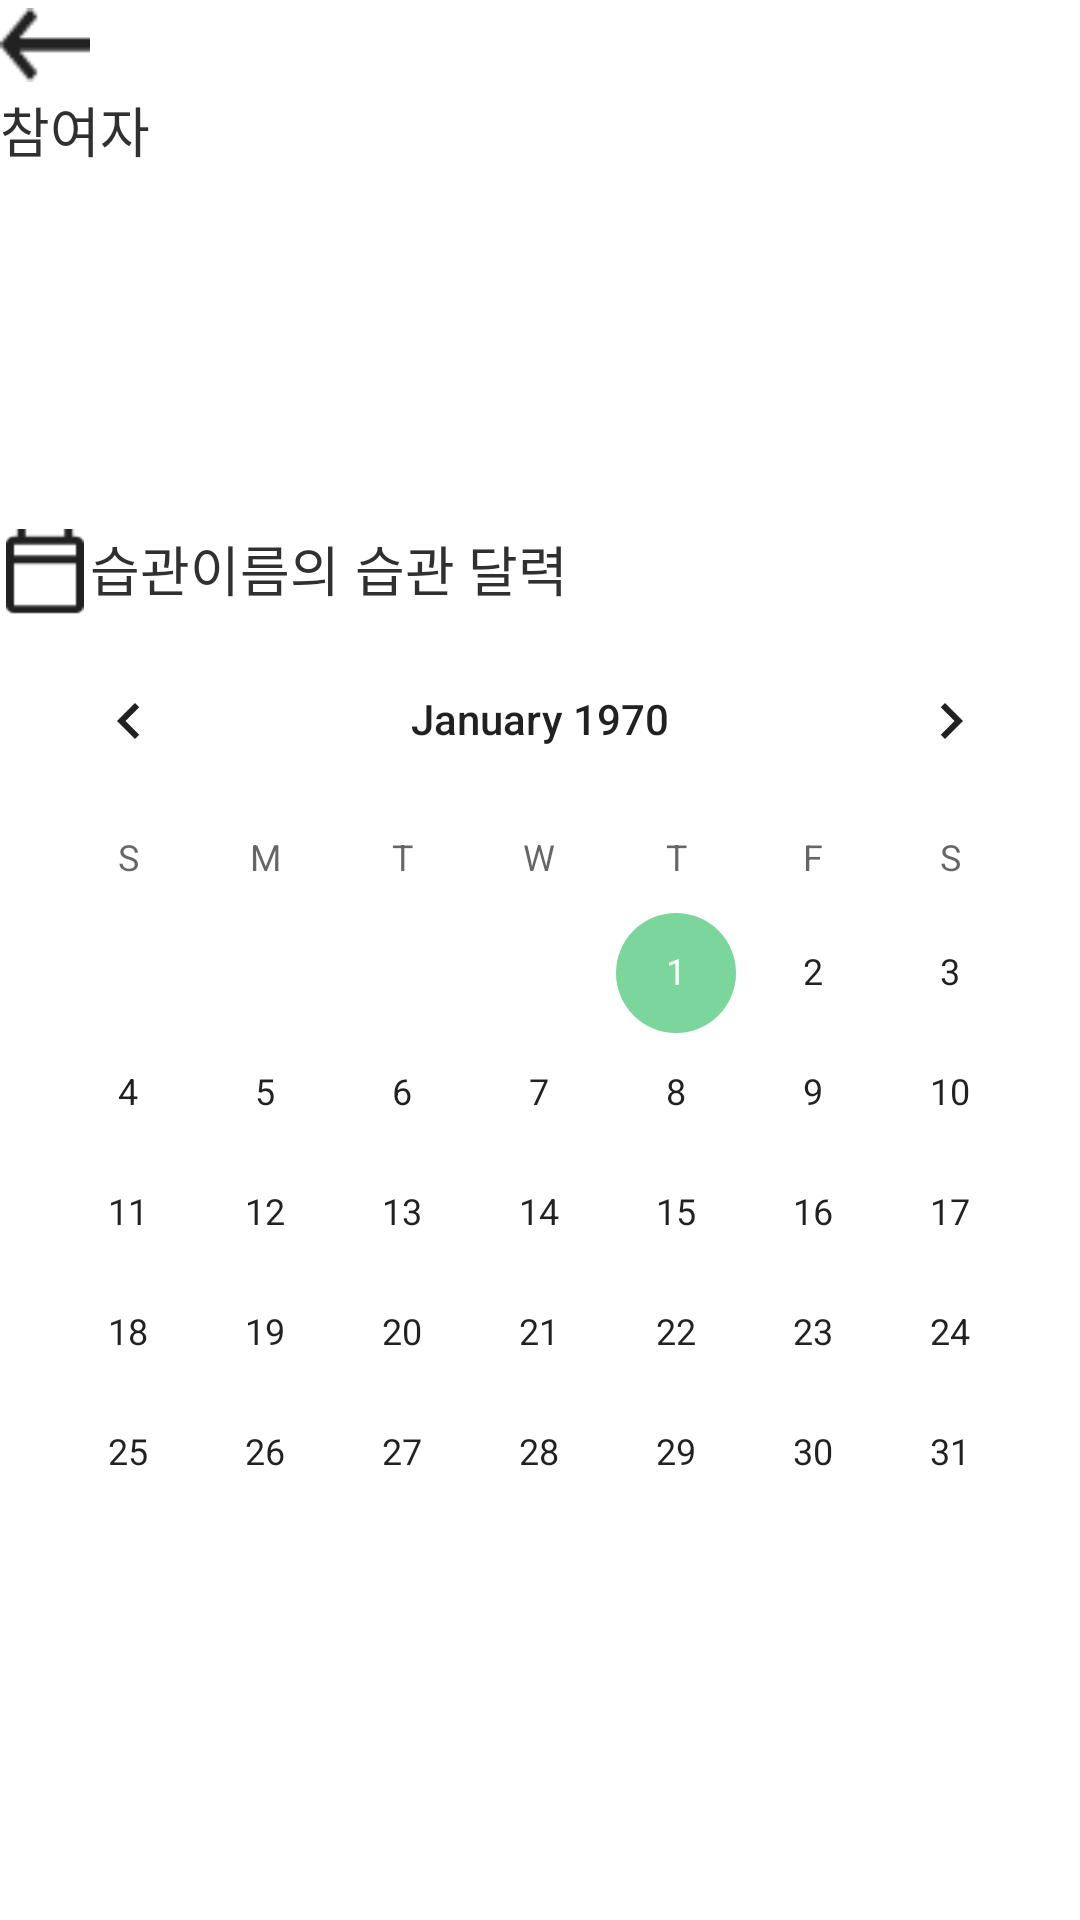

Point at icon controls on the screen. Image size 1080×1920, points as point (x, y).
back: point (45, 45)
calendar: point (45, 571)
